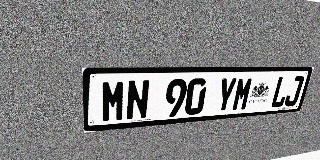0: (184, 78, 208, 116)
9: (164, 79, 188, 117)
J: (283, 76, 305, 107)
L: (270, 76, 292, 108)
M: (101, 80, 126, 123), (231, 77, 254, 111)
N: (126, 79, 150, 121)
Y: (214, 77, 238, 113)
